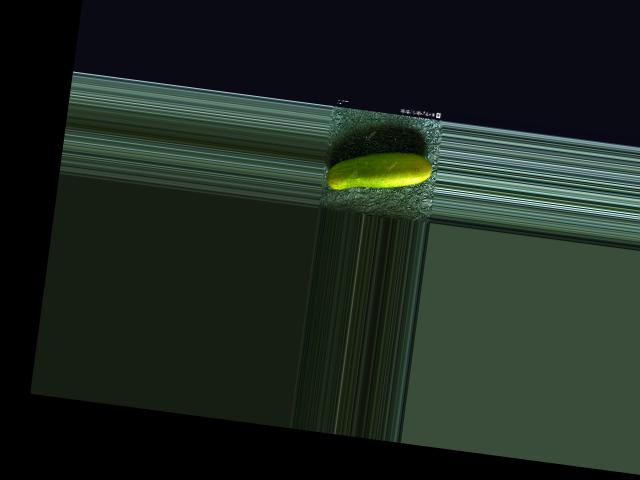cucumber: (324, 142, 433, 201)
